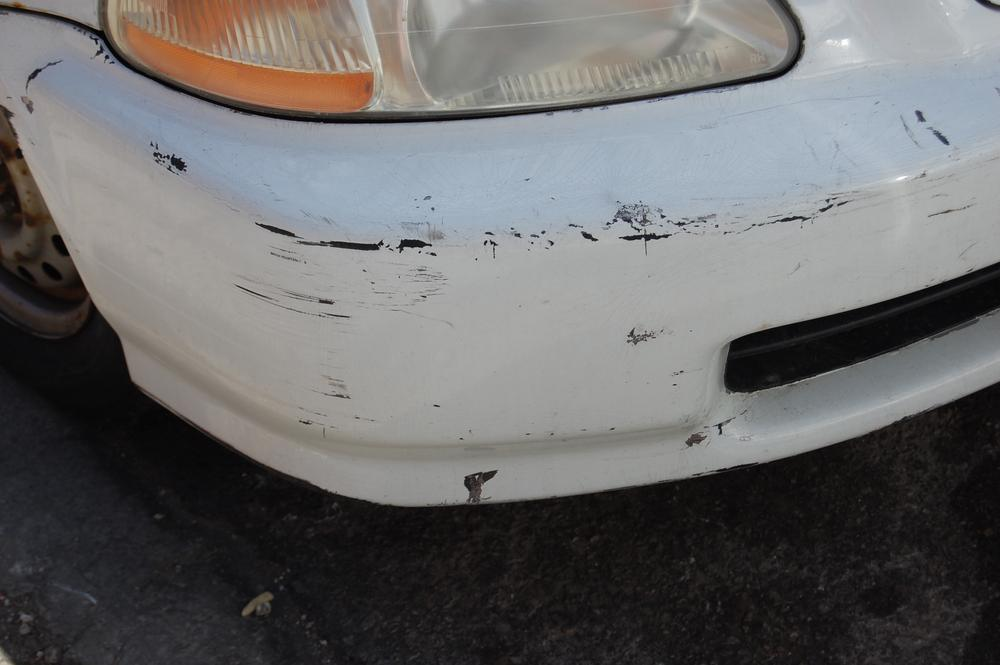scratch: (223, 186, 857, 436), (894, 98, 1000, 225)
